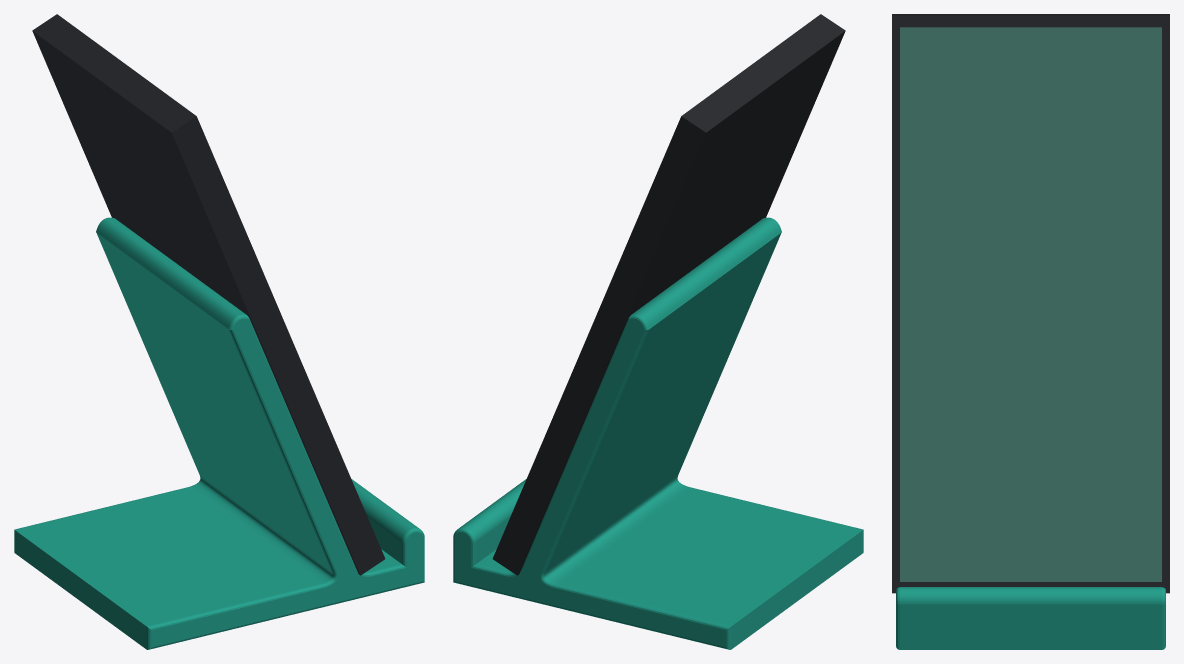
Rendered from soporte-celular-ar.glb.
The picture shows the model from 3 angles, left to right: view 1: azimuth 30°, elevation 25°; view 2: azimuth 150°, elevation 25°; view 3: azimuth 270°, elevation 25°; orthographic projection.
Visible parts, largest first — view 1: Soporte, Carcasa; view 2: Soporte, Carcasa; view 3: Pantalla, Soporte, Carcasa.
Boxes of the visible parts, bbox=[...] form: Soporte: bbox=[14, 217, 424, 649]; Carcasa: bbox=[32, 14, 385, 575]; Soporte: bbox=[453, 217, 863, 649]; Carcasa: bbox=[492, 14, 845, 575]; Pantalla: bbox=[900, 27, 1161, 581]; Soporte: bbox=[896, 587, 1165, 649]; Carcasa: bbox=[892, 14, 1169, 593].
Size of the model in its own units: 0.0826 by 0.1494 by 0.072.
